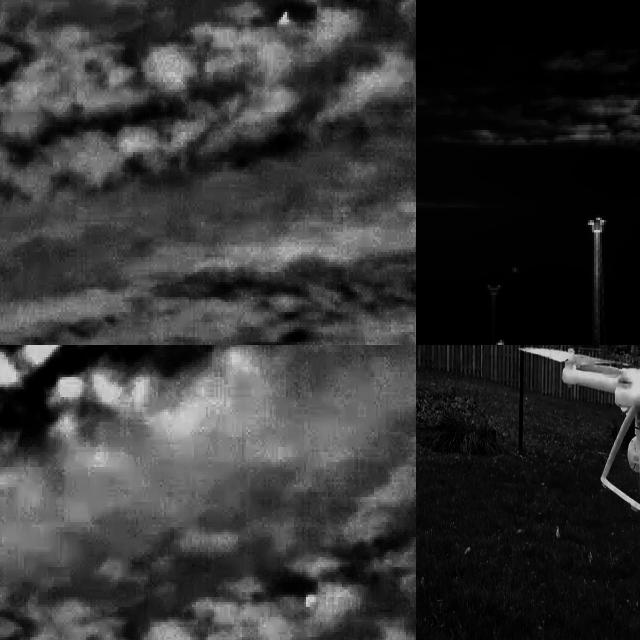0: (263, 7, 297, 37), (284, 590, 326, 614), (498, 260, 524, 285)
drone: (532, 361, 640, 507)
